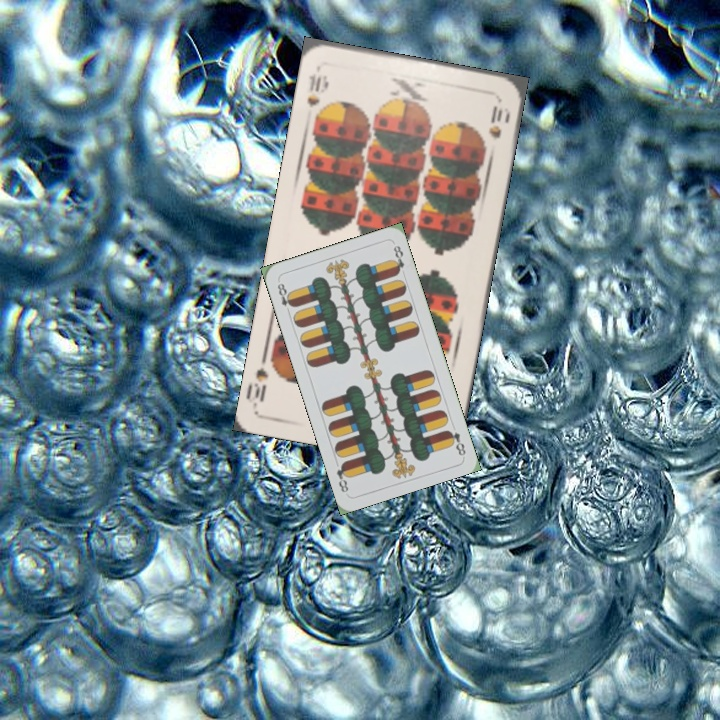E8: (273, 279, 297, 317), (443, 426, 468, 458)
S10: (303, 68, 331, 124)
